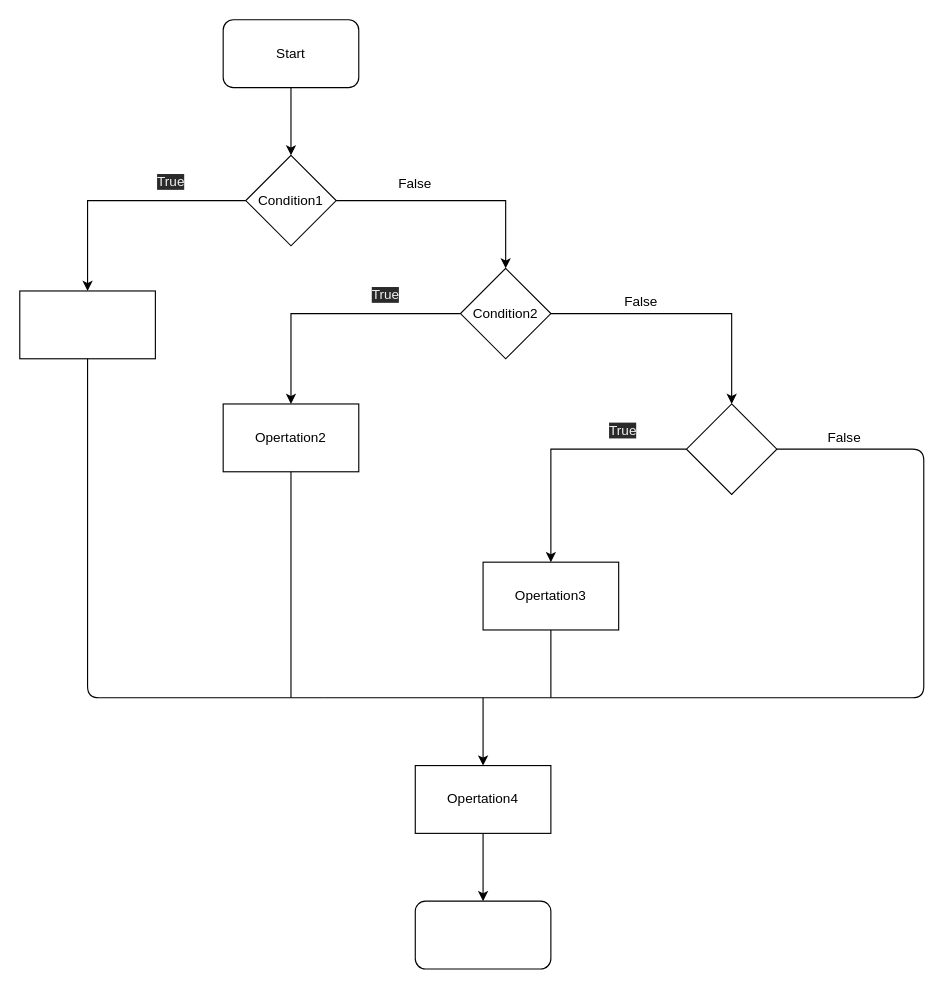
Some shapes in this 945 by 989 pixel diagram are drawn without their labels. The centre of each missing label's shape, as x and y in pixels:
Condition3: the point at 731,448
End: the point at 482,934
Opertation1: the point at 87,324
